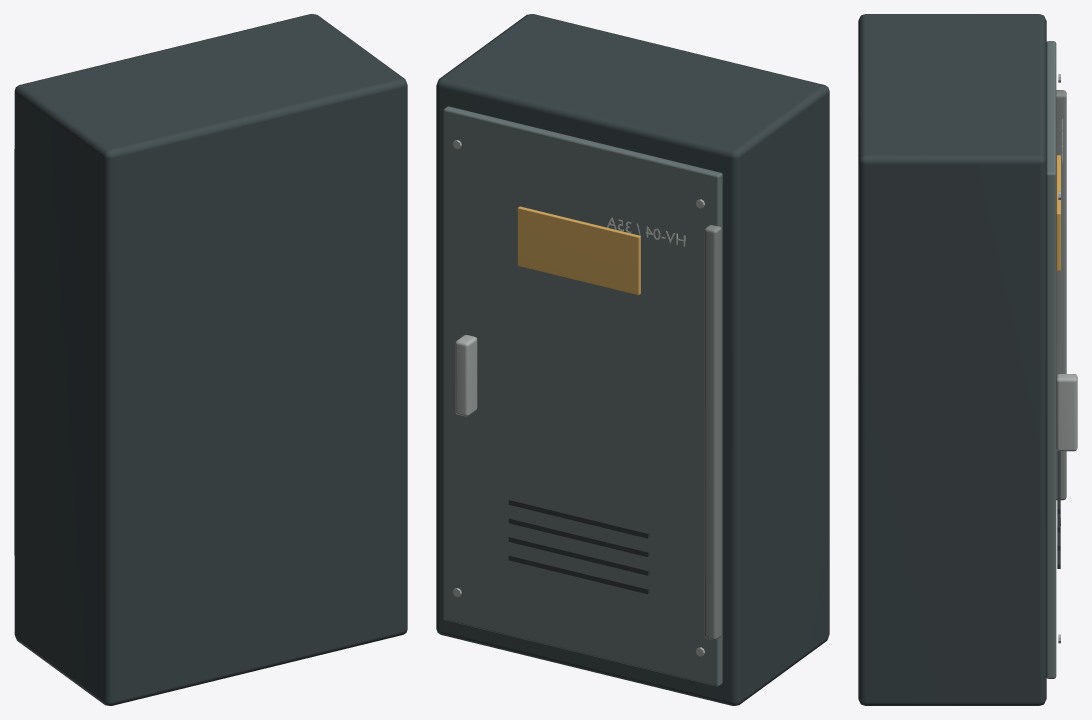
Rendered from electrical_cabinet.glb.
The picture shows the model from 3 angles, left to right: view 1: azimuth 30°, elevation 25°; view 2: azimuth 150°, elevation 25°; view 3: azimuth 270°, elevation 25°; orthographic projection.
Visible parts, largest first — view 1: VIS_electrical_cabinet_cabinet; view 2: VIS_electrical_cabinet_door, VIS_electrical_cabinet_cabinet, VIS_electrical_cabinet_warning, VIS_electrical_cabinet_hinge_left, VIS_electrical_cabinet_handle, VIS_electrical_cabinet_vent_-0.59, VIS_electrical_cabinet_vent_-0.66, VIS_electrical_cabinet_vent_-0.52, VIS_electrical_cabinet_vent_-0.45; view 3: VIS_electrical_cabinet_cabinet, VIS_electrical_cabinet_door, VIS_electrical_cabinet_hinge_left, VIS_electrical_cabinet_handle, VIS_electrical_cabinet_warning.
Boxes of the visible parts, left/top/right/bottom form: VIS_electrical_cabinet_cabinet: left=14, top=14, right=407, bottom=705; VIS_electrical_cabinet_door: left=443, top=106, right=722, bottom=686; VIS_electrical_cabinet_cabinet: left=436, top=14, right=829, bottom=705; VIS_electrical_cabinet_warning: left=517, top=206, right=640, bottom=294; VIS_electrical_cabinet_hinge_left: left=704, top=225, right=721, bottom=639; VIS_electrical_cabinet_handle: left=455, top=335, right=477, bottom=416; VIS_electrical_cabinet_vent_-0.59: left=508, top=536, right=649, bottom=575; VIS_electrical_cabinet_vent_-0.66: left=508, top=554, right=649, bottom=594; VIS_electrical_cabinet_vent_-0.52: left=508, top=517, right=649, bottom=556; VIS_electrical_cabinet_vent_-0.45: left=508, top=498, right=649, bottom=538; VIS_electrical_cabinet_cabinet: left=858, top=14, right=1046, bottom=705; VIS_electrical_cabinet_door: left=1046, top=41, right=1056, bottom=678; VIS_electrical_cabinet_hinge_left: left=1056, top=90, right=1066, bottom=500; VIS_electrical_cabinet_handle: left=1056, top=374, right=1077, bottom=451; VIS_electrical_cabinet_warning: left=1056, top=155, right=1060, bottom=270.
Bounding box in the file's own units: 1.2 × 2.1 × 0.7575.
